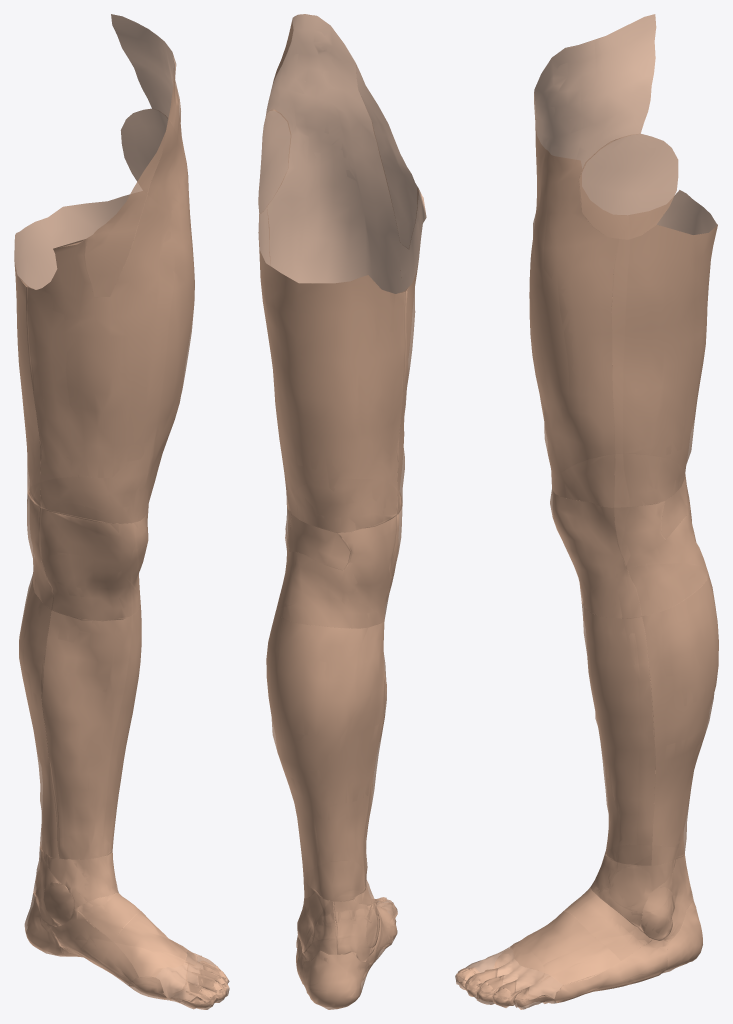
Rendered from regions.lower_limb_left.glb.
The picture shows the model from 3 angles, left to right: view 1: azimuth 30°, elevation 25°; view 2: azimuth 150°, elevation 25°; view 3: azimuth 270°, elevation 25°; orthographic projection. The views are drawn at different scales.
Visible parts, largest first — view 1: left_anterior_region_of_thigh, left_anterior_region_of_leg, left_anterior_region_of_knee, left_posterior_region_of_thigh, left_posterior_region_of_leg, left_femoral_triangle, left_metatarsal_region, left_medial_border_of_foot, left_anterior_region_of_ankle, left_dorsal_surfaces_of_digits_of_foot, left_hip_region, left_dorsum_of_foot (+7 smaller); view 2: left_posterior_region_of_thigh, left_anterior_region_of_thigh, left_posterior_region_of_leg, left_posterior_region_of_knee, left_femoral_triangle, left_heel_region, left_hip_region, left_popliteal_fossa, left_medial_retromalleolar_region, left_lateral_retromalleolar_region, left_anterior_region_of_leg, left_medial_border_of_foot (+4 smaller); view 3: left_anterior_region_of_thigh, left_posterior_region_of_thigh, left_posterior_region_of_leg, left_anterior_region_of_leg, left_hip_region, left_posterior_region_of_knee, left_anterior_region_of_knee, left_metatarsal_region, left_anterior_region_of_ankle, left_dorsal_surfaces_of_digits_of_foot, left_lateral_border_of_foot, left_dorsum_of_foot (+6 smaller).
Boxes of the visible parts, bbox=[...] form: left_anterior_region_of_thigh: bbox=[26, 14, 194, 524]; left_anterior_region_of_leg: bbox=[41, 604, 141, 859]; left_anterior_region_of_knee: bbox=[38, 506, 148, 621]; left_posterior_region_of_thigh: bbox=[14, 194, 129, 507]; left_posterior_region_of_leg: bbox=[19, 574, 59, 858]; left_femoral_triangle: bbox=[84, 131, 165, 297]; left_metatarsal_region: bbox=[113, 912, 187, 977]; left_medial_border_of_foot: bbox=[46, 909, 138, 986]; left_anterior_region_of_ankle: bbox=[42, 850, 118, 908]; left_dorsal_surfaces_of_digits_of_foot: bbox=[155, 950, 228, 1004]; left_hip_region: bbox=[120, 108, 168, 181]; left_dorsum_of_foot: bbox=[73, 892, 142, 941]; left_posterior_region_of_thigh: bbox=[258, 207, 407, 532]; left_anterior_region_of_thigh: bbox=[266, 14, 426, 513]; left_posterior_region_of_leg: bbox=[266, 612, 386, 901]; left_posterior_region_of_knee: bbox=[275, 508, 398, 628]; left_femoral_triangle: bbox=[356, 64, 418, 249]; left_heel_region: bbox=[300, 950, 370, 1009]; left_hip_region: bbox=[258, 109, 291, 213]; left_popliteal_fossa: bbox=[288, 514, 351, 570]; left_medial_retromalleolar_region: bbox=[333, 899, 375, 961]; left_lateral_retromalleolar_region: bbox=[303, 892, 338, 961]; left_anterior_region_of_leg: bbox=[363, 637, 386, 881]; left_medial_border_of_foot: bbox=[366, 914, 394, 970]; left_anterior_region_of_thigh: bbox=[529, 14, 656, 507]; left_posterior_region_of_thigh: bbox=[611, 190, 717, 507]; left_posterior_region_of_leg: bbox=[642, 572, 718, 865]; left_anterior_region_of_leg: bbox=[581, 603, 655, 865]; left_hip_region: bbox=[578, 134, 678, 239]; left_posterior_region_of_knee: bbox=[614, 501, 708, 616]; left_anterior_region_of_knee: bbox=[550, 488, 642, 618]; left_metatarsal_region: bbox=[509, 911, 620, 984]; left_anterior_region_of_ankle: bbox=[590, 851, 677, 933]; left_dorsal_surfaces_of_digits_of_foot: bbox=[455, 947, 563, 1000]; left_lateral_border_of_foot: bbox=[554, 939, 668, 1002]; left_dorsum_of_foot: bbox=[563, 887, 653, 960].
Size of the model in its own units: 0.1688 by 1.04 by 0.2546.
